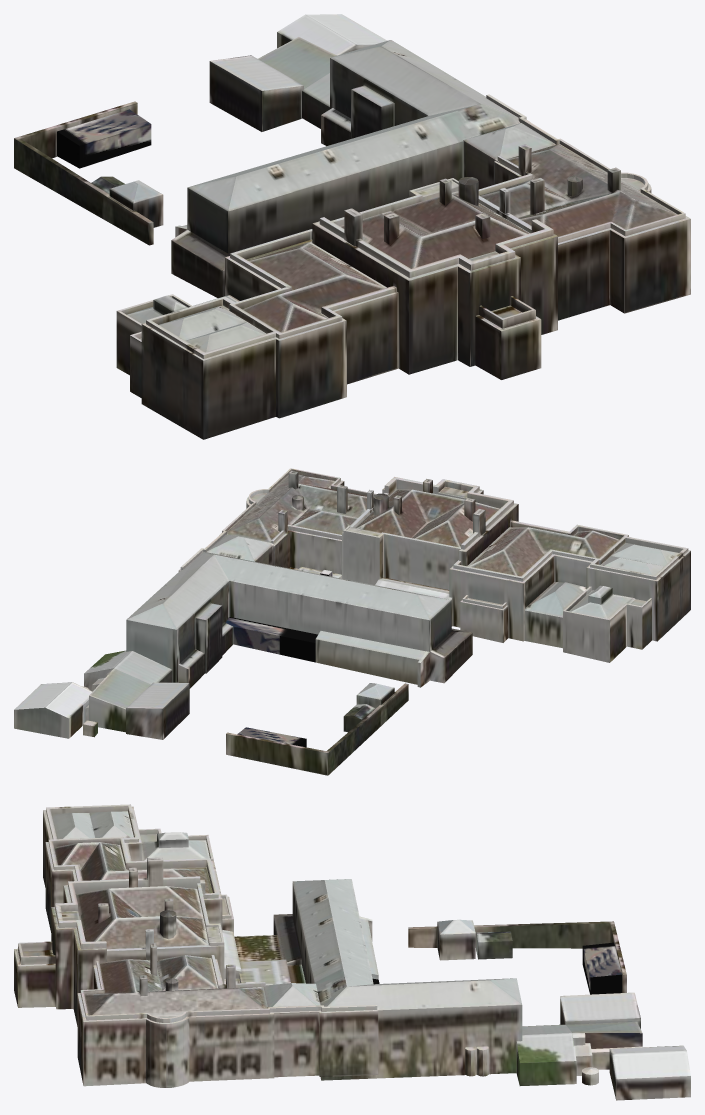
Rendered from aquatic.obj.
3 views of the same model, one above another, from view 1: azimuth 30°, elevation 25°; view 2: azimuth 150°, elevation 25°; view 3: azimuth 270°, elevation 25° (orthographic). The views are drawn at different scales.
Parts seen in each view (by area): view 1: IA2_04; view 2: IA2_04; view 3: IA2_04.
Part boxes in pixels (x1,y1,x2,y2): IA2_04: (14, 14, 690, 439); IA2_04: (14, 468, 690, 775); IA2_04: (14, 804, 690, 1100).
Bounding box in the file's own units: 635 × 156 × 817.
